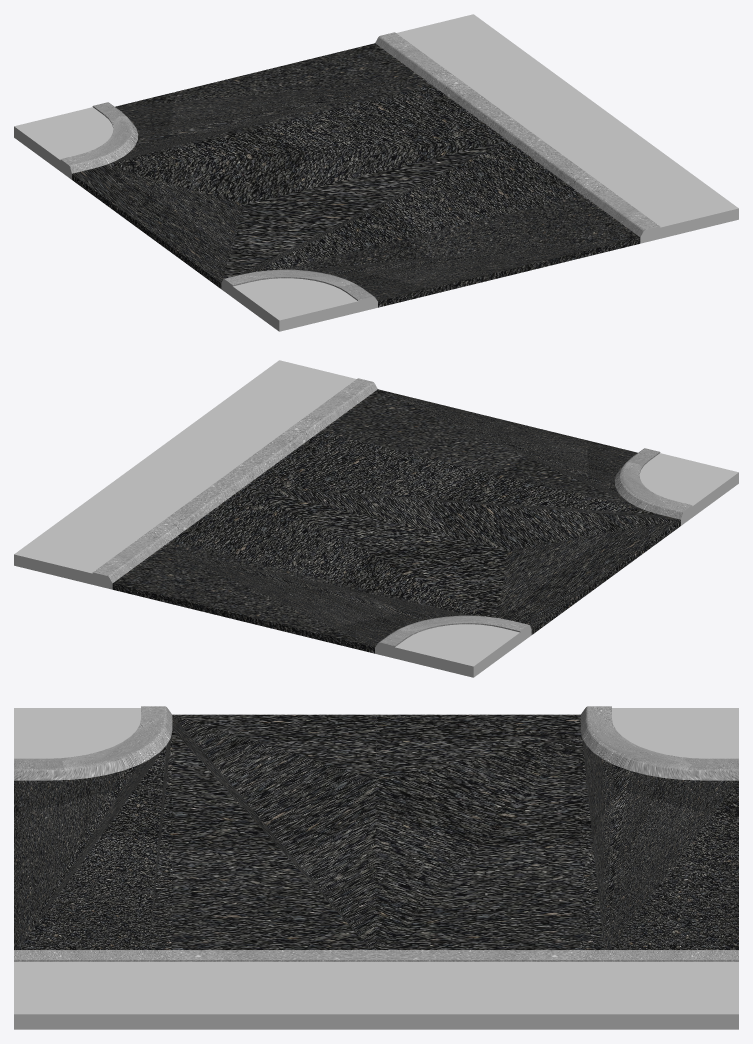
The model's file is tile4.fbx.
3 views of the same model, one above another, from view 1: azimuth 30°, elevation 25°; view 2: azimuth 150°, elevation 25°; view 3: azimuth 270°, elevation 25° (orthographic). The views are drawn at different scales.
Parts seen in each view (by area): view 1: Cube; view 2: Cube; view 3: Cube.
Part boxes in pixels (x1=…): Cube: x1=14, y1=14, x2=738, y2=331; Cube: x1=14, y1=360, x2=738, y2=677; Cube: x1=14, y1=706, x2=738, y2=1029.
Bounding box in the file's own units: 600 × 15.53 × 600.
